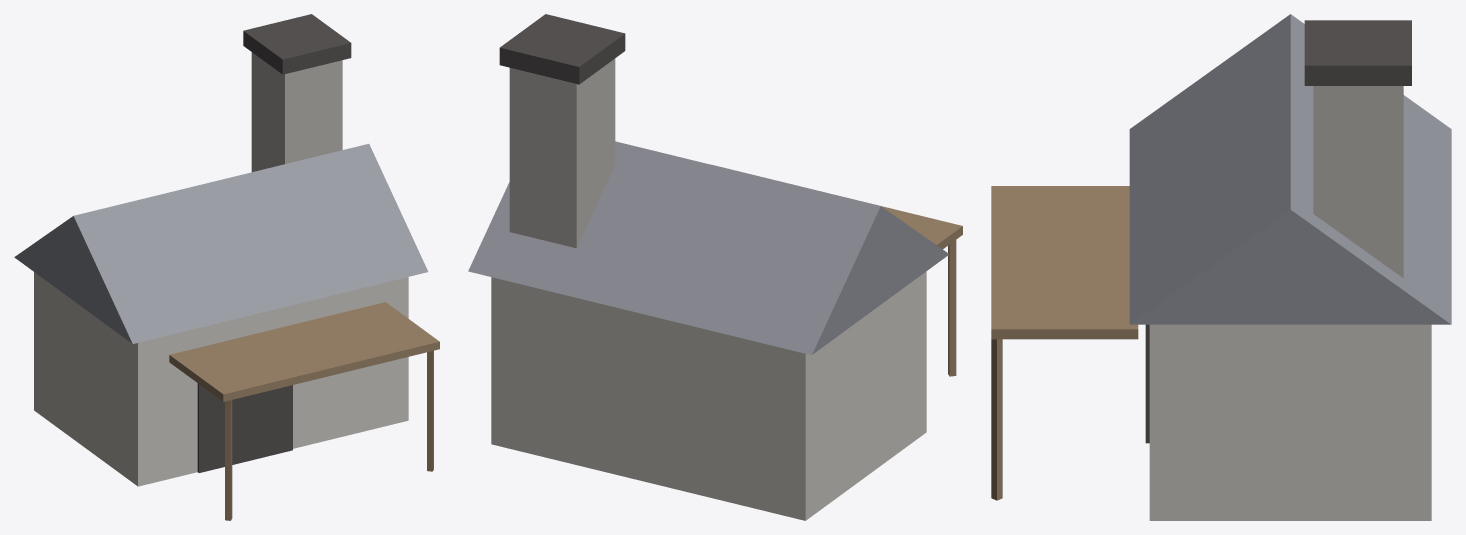
3 renders of one model, left to right at view 1: azimuth 30°, elevation 25°; view 2: azimuth 150°, elevation 25°; view 3: azimuth 270°, elevation 25°, orthographic. The views are drawn at different scales.
Visible parts, largest first — view 1: body; view 2: body; view 3: body.
Boxes of the visible parts, x1,y1,x2,y2 form: body: [14, 14, 439, 520]; body: [468, 14, 962, 520]; body: [991, 14, 1451, 520].
Size of the model in its own units: 8.2 by 8.9 by 8.15.
